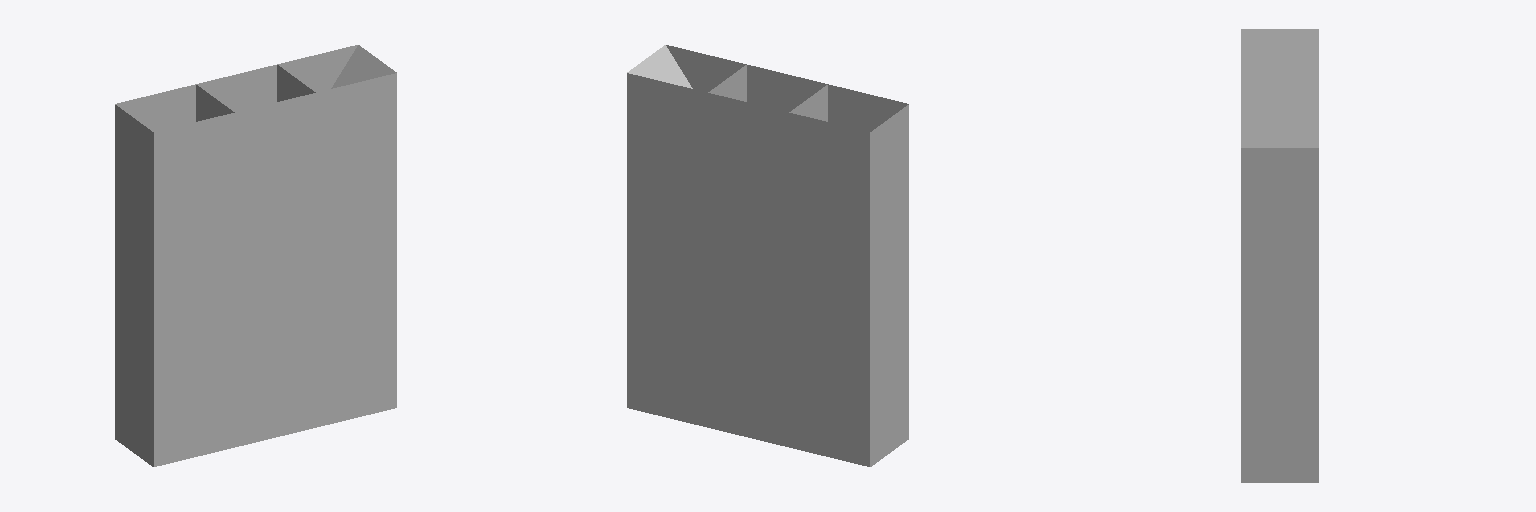
File: 3d_Azshara - Tidepool 4 - TEST.wlw.obj
3 views of the same model, side by side, from view 1: azimuth 30°, elevation 25°; view 2: azimuth 150°, elevation 25°; view 3: azimuth 270°, elevation 25° (orthographic).
Size of the model in its own units: 36.33 by 47.74 by 10.